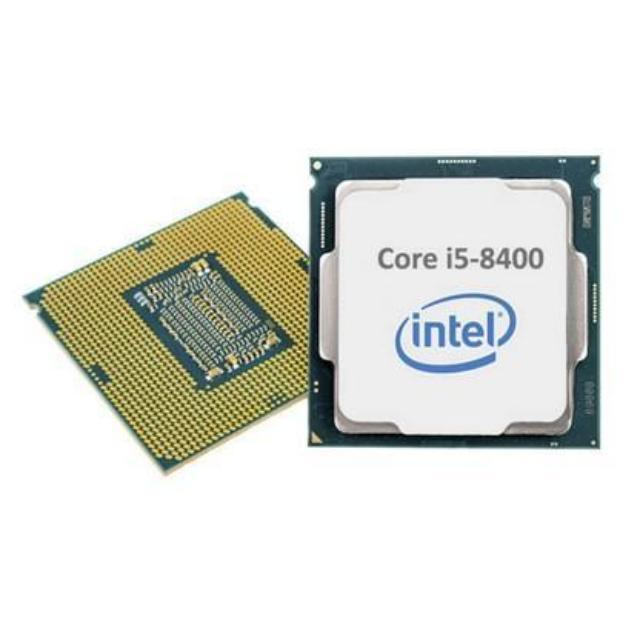CPU: (18, 187, 340, 455), (313, 156, 599, 447)
